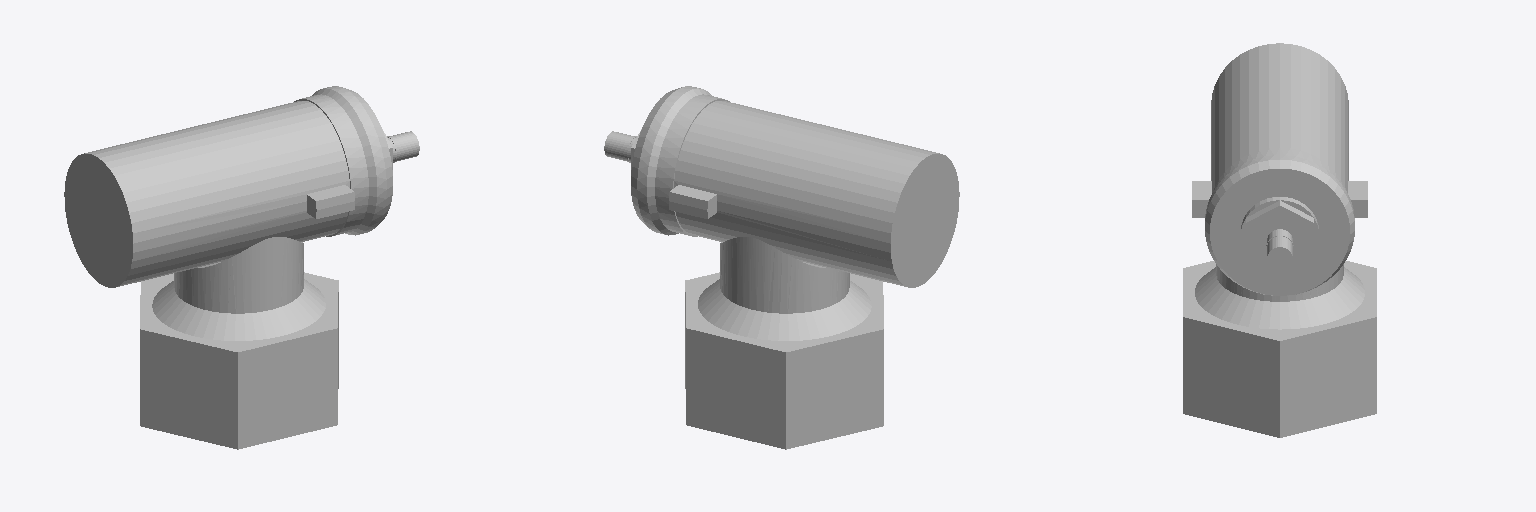
Rendered from torneiraBase.obj.
3 renders of one model, left to right at view 1: azimuth 30°, elevation 25°; view 2: azimuth 150°, elevation 25°; view 3: azimuth 270°, elevation 25°, orthographic.
Visible parts, largest first — view 1: TorneiraBaseRoca_v160610; view 2: TorneiraBaseRoca_v160610; view 3: TorneiraBaseRoca_v160610.
Boxes of the visible parts, x1,y1,x2,y2 form: TorneiraBaseRoca_v160610: [64, 86, 419, 449]; TorneiraBaseRoca_v160610: [604, 86, 959, 449]; TorneiraBaseRoca_v160610: [1183, 43, 1376, 437].
Size of the model in its own units: 6.5 by 5.61 by 3.48.